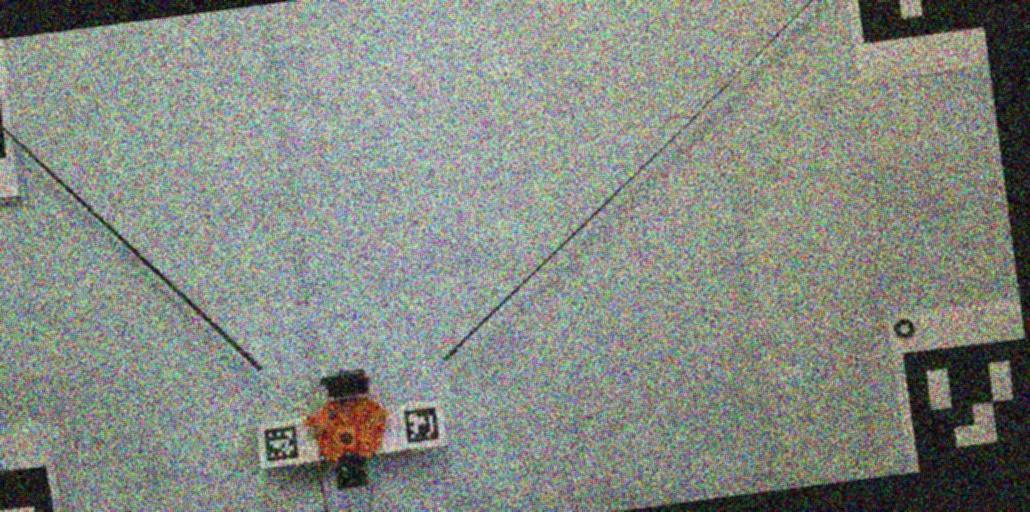robot: (305, 369, 389, 487)
